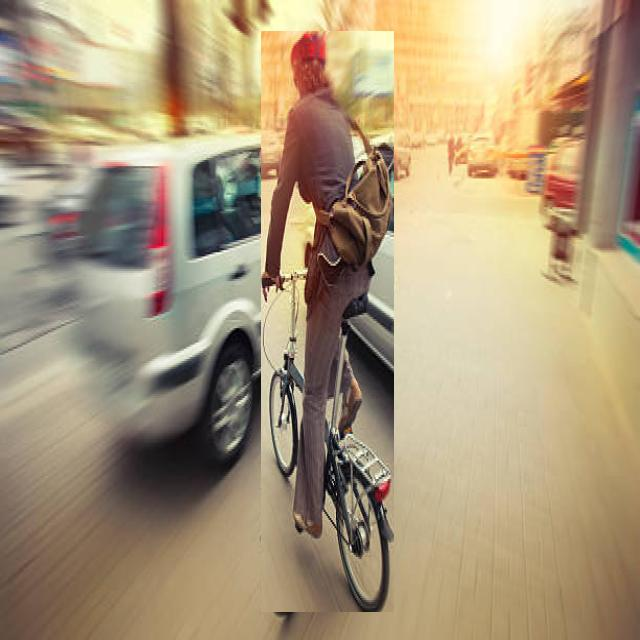bicycle: (261, 32, 394, 612)
